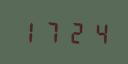four: (84, 20, 105, 44)
one: (18, 19, 39, 43)
seven: (40, 19, 61, 43)
two: (62, 19, 83, 44)
